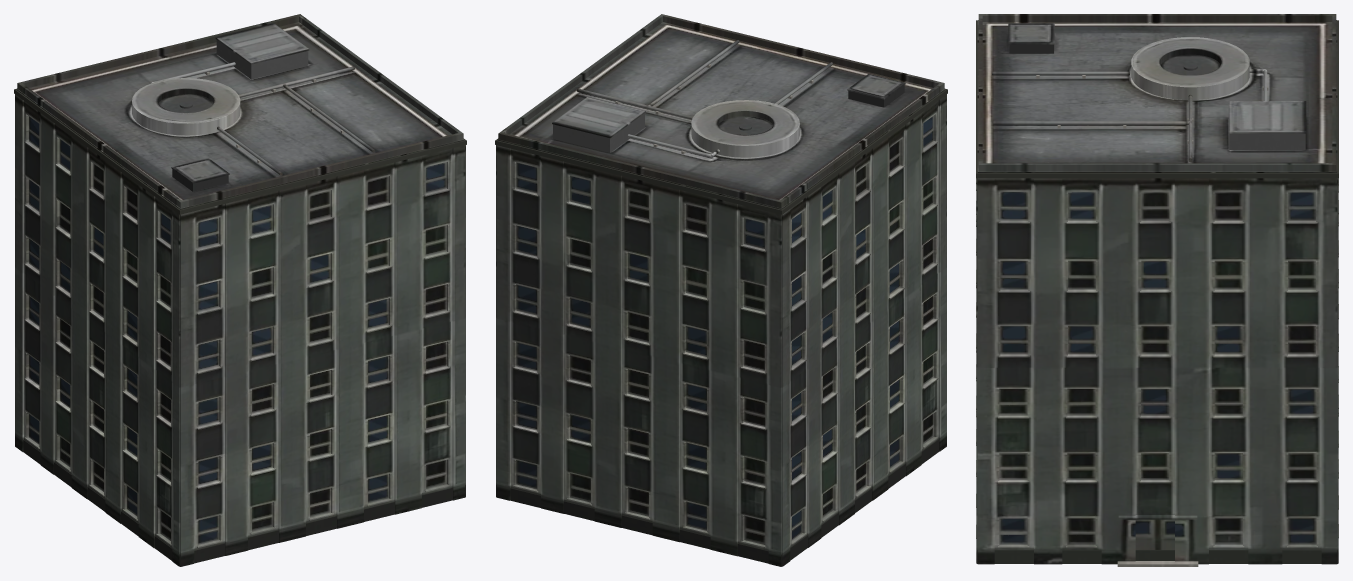
File: city6storyb_cad.glb
The picture shows the model from 3 angles, left to right: view 1: azimuth 30°, elevation 25°; view 2: azimuth 150°, elevation 25°; view 3: azimuth 270°, elevation 25°; orthographic projection. The views are drawn at different scales.
Parts seen in each view (by area): view 1: CityBlock8Story_A01; view 2: CityBlock8Story_A01; view 3: CityBlock8Story_A01.
Boxes of the visible parts, <box> form: CityBlock8Story_A01: <box>14,14,466,566</box>; CityBlock8Story_A01: <box>495,14,947,566</box>; CityBlock8Story_A01: <box>976,14,1338,566</box>.
Size of the model in its own units: 18.24 by 22.31 by 17.92.
Materials: 1 (1 with a texture image).
